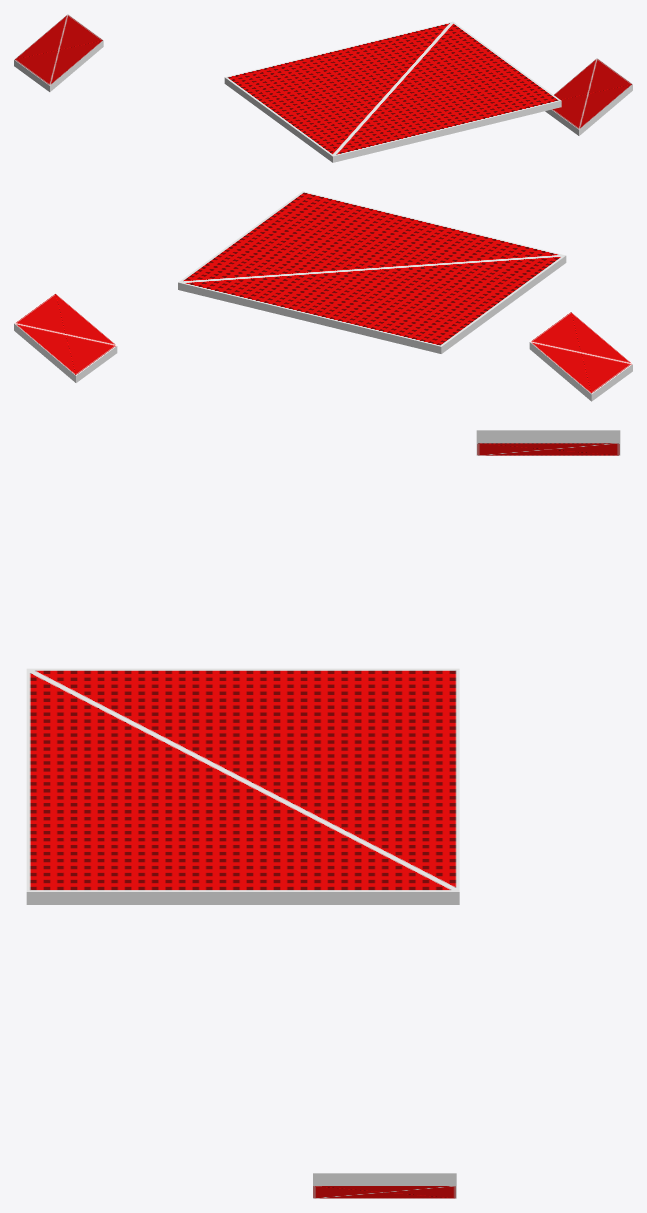
Rendered from Killplanes.obj.
The picture shows the model from 3 angles, top to bottom: view 1: azimuth 30°, elevation 25°; view 2: azimuth 150°, elevation 25°; view 3: azimuth 270°, elevation 25°; orthographic projection. The views are drawn at different scales.
Bounding box in the file's own units: 2649 × 803 × 1256.
1 material, 1 textured.
